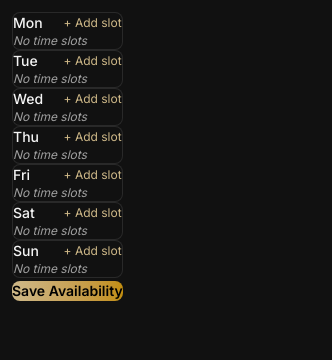
AvailabilityEditor › Saving › shows validation errors from API on save failure
Click the button "Save Availability": click(67, 291) [12,281,123,301]
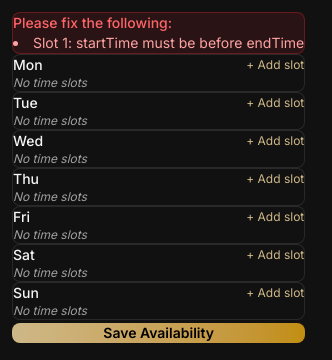
Expected: the list item "Slot 1: startTime must be before endTime" is shown, [13,33,304,53]
